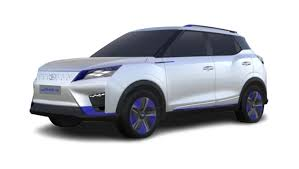XUV 400: (27, 24, 268, 141)
